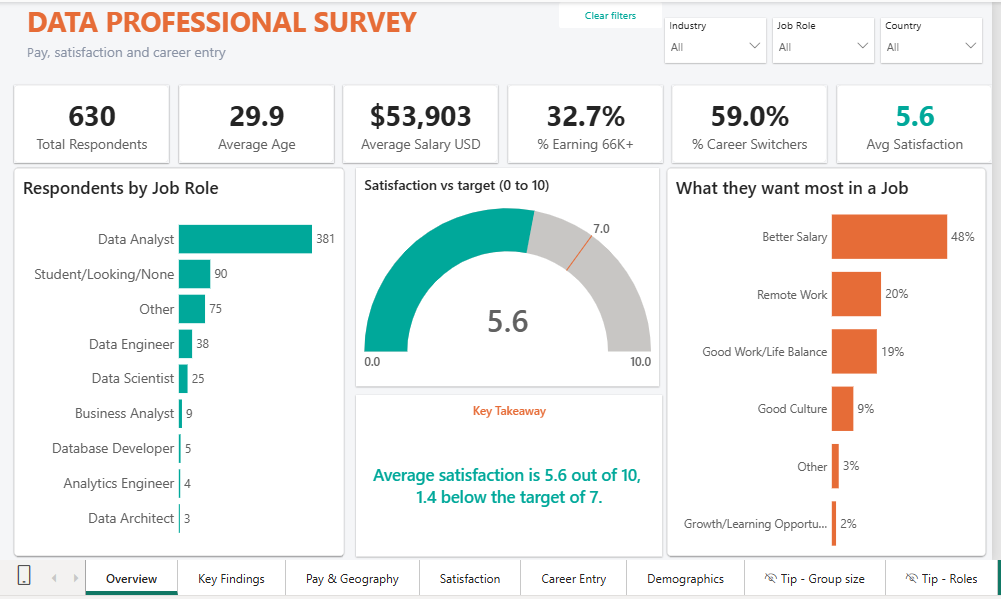

The dashboard page shown, as its layout file describes it:
{"tool":"powerbi","page":{"name":"Overview","canvas":[1920,1080],"ordinal":0},"visuals":[{"type":"textbox","box":[53.1,0,867.4,76.5],"z":0},{"type":"textbox","box":[53.1,76.5,416.7,42.5],"z":1000},{"type":"slicer","fields":{"Values":["Data Professional Survey.Industry"]},"box":[1286.2,31.9,195.6,87.2],"z":2000},{"type":"slicer","fields":{"Values":["Data Professional Survey.Job Role"]},"box":[1496.7,31.9,195.6,87.2],"z":3000},{"type":"slicer","fields":{"Values":["Data Professional Survey.Country"]},"box":[1705,31.9,195.6,87.2],"z":4000},{"type":"cardVisual","fields":{"Data":["_Measures.Total Respondents"]},"box":[27.6,161.6,299.8,150.9],"z":5000},{"type":"cardVisual","fields":{"Data":["_Measures.Average Age"]},"box":[346.1,161.6,299.8,150.9],"z":6000},{"type":"cardVisual","fields":{"Data":["_Measures.Average Salary (Midpoint)"]},"box":[664.6,161.6,299.8,150.9],"z":7000},{"type":"cardVisual","fields":{"Data":["_Measures.% Earning 66K+"]},"box":[983.1,161.6,299.8,150.9],"z":8000},{"type":"cardVisual","fields":{"Data":["_Measures.% Career Switchers"]},"box":[1301.5,161.6,299.8,150.9],"z":9000},{"type":"cardVisual","fields":{"Data":["_Measures.Avg Satisfaction"]},"box":[1620,161.6,299.8,150.9],"z":10000},{"type":"clusteredBarChart","title":"Respondents by Job Role","fields":{"Category":["Data Professional Survey.Job Role"],"Y":["_Measures.Total Respondents"]},"box":[27.1,321.3,638.7,751],"z":11000},{"type":"gauge","title":"Satisfaction vs target (0 to 10)","fields":{"TargetValue":["_Measures.Satisfaction Target"],"Y":["_Measures.Avg Satisfaction"]},"box":[688.8,321,586.8,423.1],"z":12000},{"type":"clusteredBarChart","title":"What they want most in a Job","fields":{"Category":["Data Professional Survey.Priority"],"Y":["_Measures.Total Respondents"]},"box":[1291,321.3,617.4,751],"z":13000},{"type":"card","title":"Key Takeaway","fields":{"Values":["_Measures.Overview Insight"]},"box":[688.8,761.1,593.1,312.5],"z":14000},{"type":"actionButton","box":[1082.1,0,199.8,51],"z":15000}]}

Visuals, with their boxes on the page's 1920x1080 design canvas (x1, y1, x2, y2). These are canvas units, not pixel positions in the 1001x599 screenshot, which may show the page scaled, cropped or inside an application window:
textbox: (53, 0, 920, 76)
textbox: (53, 76, 470, 119)
slicer - Data Professional Survey.Industry: (1286, 32, 1482, 119)
slicer - Data Professional Survey.Job Role: (1497, 32, 1692, 119)
slicer - Data Professional Survey.Country: (1705, 32, 1901, 119)
cardVisual - _Measures.Total Respondents: (28, 162, 327, 312)
cardVisual - _Measures.Average Age: (346, 162, 646, 312)
cardVisual - _Measures.Average Salary (Midpoint): (665, 162, 964, 312)
cardVisual - _Measures.% Earning 66K+: (983, 162, 1283, 312)
cardVisual - _Measures.% Career Switchers: (1302, 162, 1601, 312)
cardVisual - _Measures.Avg Satisfaction: (1620, 162, 1920, 312)
"Respondents by Job Role" clusteredBarChart: (27, 321, 666, 1072)
"Satisfaction vs target (0 to 10)" gauge: (689, 321, 1276, 744)
"What they want most in a Job" clusteredBarChart: (1291, 321, 1908, 1072)
"Key Takeaway" card: (689, 761, 1282, 1074)
actionButton: (1082, 0, 1282, 51)
